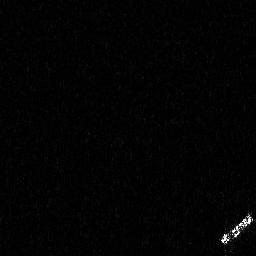ship: (218, 209, 256, 247)
